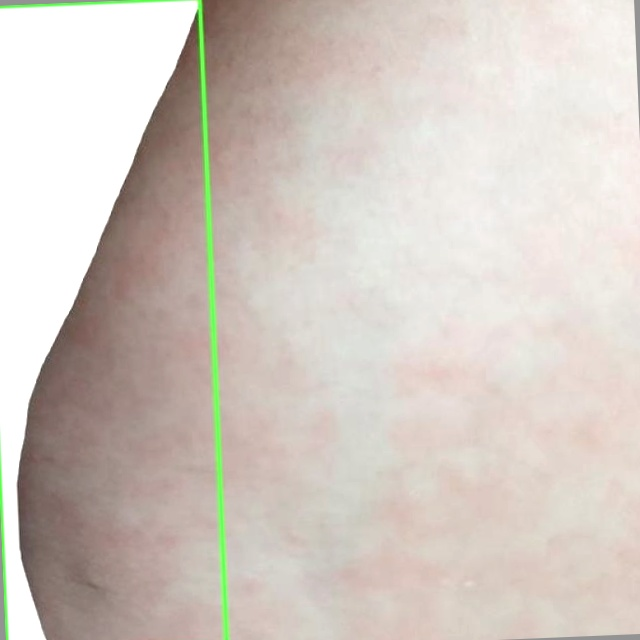Contact Dermatitis: (0, 0, 226, 639)
